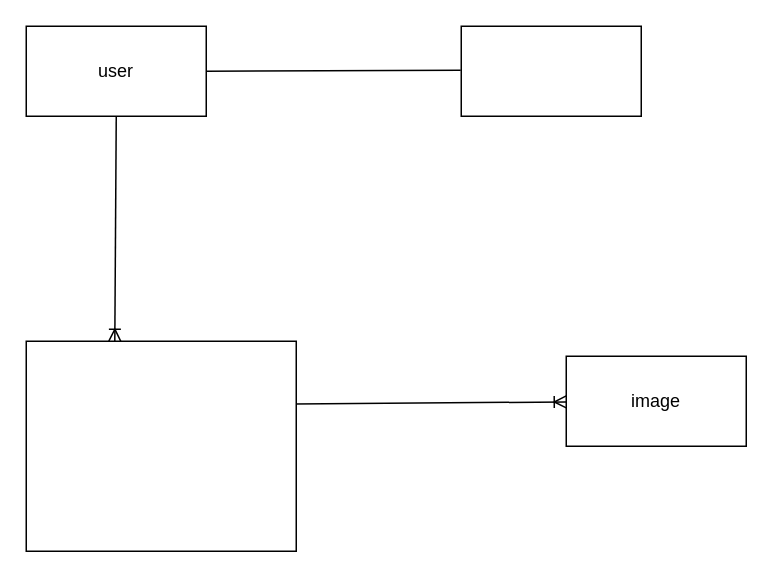
This 773x578 diagram has some shape labels left out. The shapes that lost their labels are listed below. From the top down, each one's box as (x1, y1, x2, y2) in pixels, then its label:
(460, 25, 641, 116): address 買い手の情報
(25, 340, 296, 551): items (出品中の商品情報)
